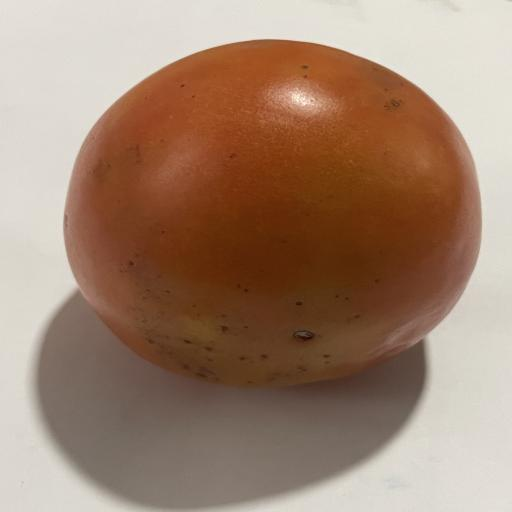ripe: (65, 40, 481, 387)
